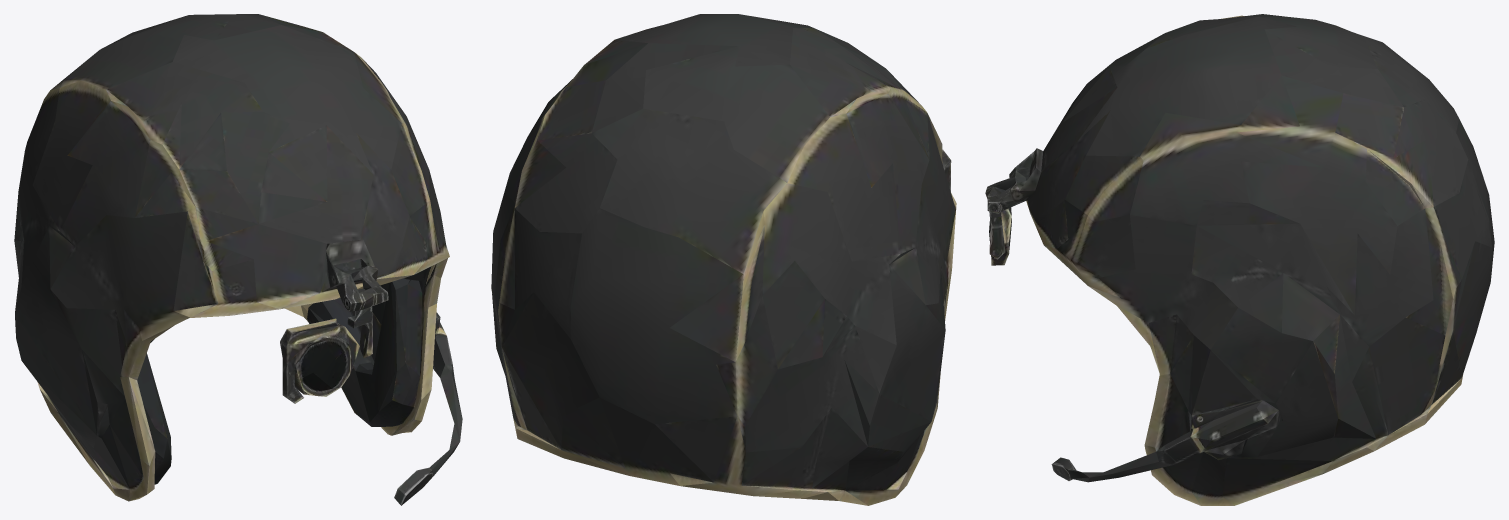
Rendered from banked-headset.glb.
3 renders of one model, left to right at view 1: azimuth 30°, elevation 25°; view 2: azimuth 150°, elevation 25°; view 3: azimuth 270°, elevation 25°, orthographic. The views are drawn at different scales.
Parts seen in each view (by area): view 1: Mesh_0; view 2: Mesh_0; view 3: Mesh_0.
Part boxes in pixels (left/top/right/bottom): Mesh_0: left=14, top=14, right=462, bottom=505; Mesh_0: left=491, top=14, right=956, bottom=505; Mesh_0: left=985, top=14, right=1494, bottom=505.
Bounding box in the file's own units: 0.2256 × 0.237 × 0.27.
Materials: 1 (1 with a texture image).
